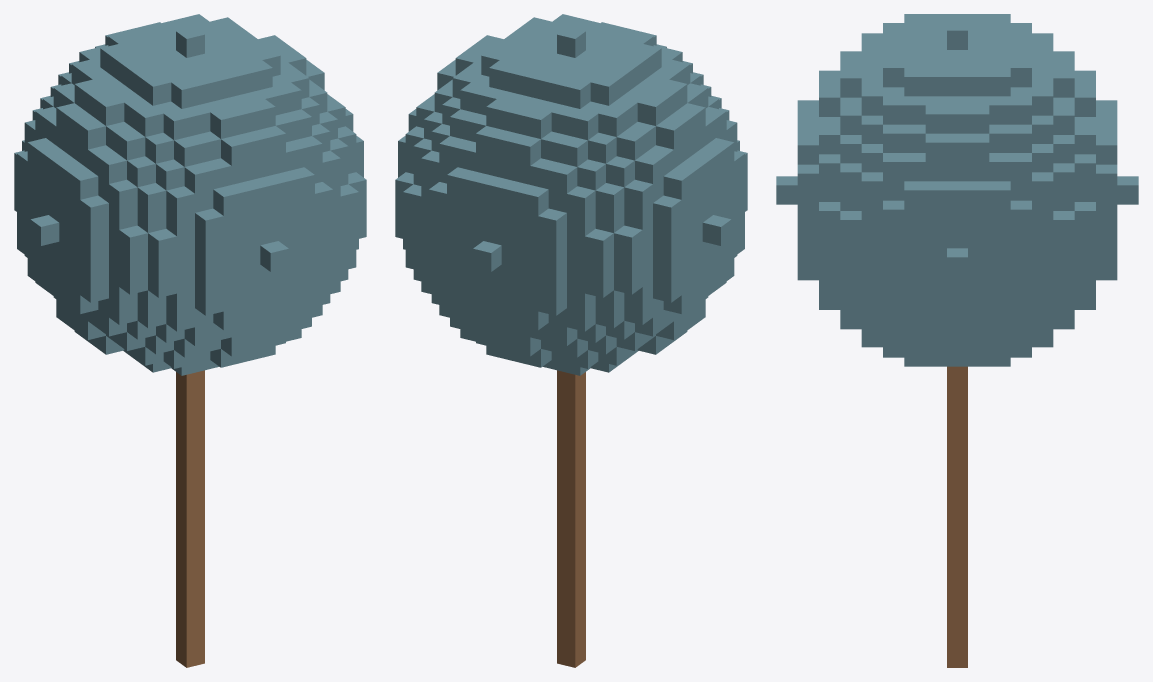
The model's file is travel-12.glb.
3 renders of one model, left to right at view 1: azimuth 30°, elevation 25°; view 2: azimuth 150°, elevation 25°; view 3: azimuth 270°, elevation 25°, orthographic.
Parts seen in each view (by area): view 1: Hot air balloon; view 2: Hot air balloon; view 3: Hot air balloon.
Boxes of the visible parts, x1,y1,x2,y2 form: Hot air balloon: [14, 14, 366, 667]; Hot air balloon: [395, 14, 747, 667]; Hot air balloon: [776, 14, 1138, 667].
Size of the model in its own units: 1.36 by 2.64 by 1.36.
